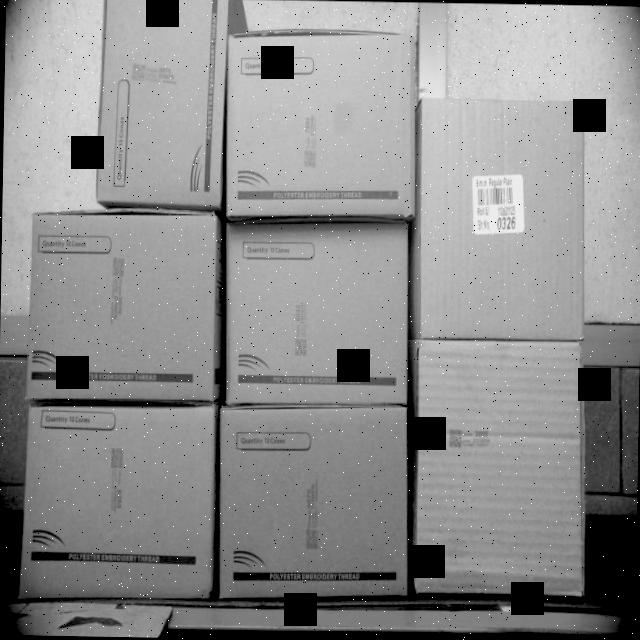box: (414, 342, 587, 594), (416, 93, 584, 340), (21, 401, 218, 600), (216, 402, 410, 604), (26, 209, 220, 397), (222, 212, 410, 402), (225, 29, 418, 212), (97, 0, 226, 208)
